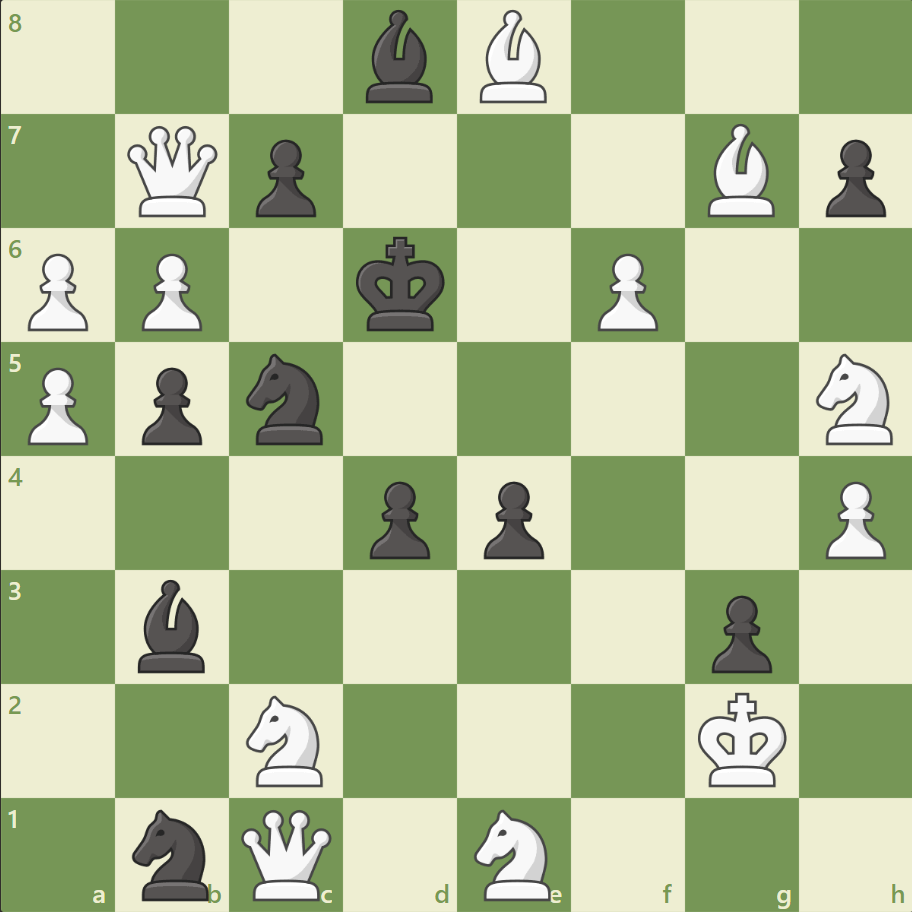B: (471, 6, 555, 109), (698, 120, 782, 222)
K: (692, 685, 792, 793)
N: (238, 688, 335, 791), (806, 348, 903, 450), (465, 802, 562, 904)
P: (20, 246, 95, 337), (133, 246, 208, 337), (20, 359, 95, 450), (588, 246, 662, 337), (815, 473, 889, 564)
Q: (124, 122, 223, 222), (237, 804, 336, 903)
b: (358, 6, 442, 109), (131, 574, 215, 676)
k: (351, 231, 451, 339)
n: (124, 802, 222, 904), (238, 348, 335, 450)
p: (247, 132, 322, 223), (133, 359, 208, 450), (474, 473, 549, 564), (701, 586, 776, 677), (815, 132, 889, 223), (361, 473, 435, 564)
